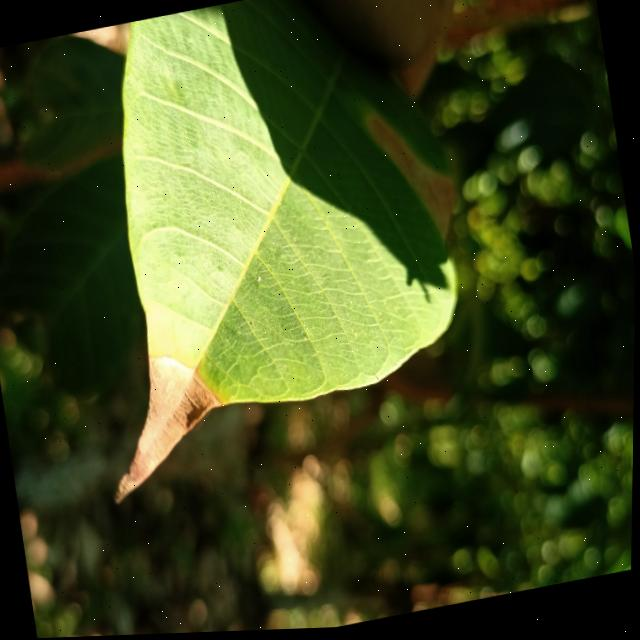Leaf-Blight: (89, 350, 226, 500), (364, 104, 465, 256)
